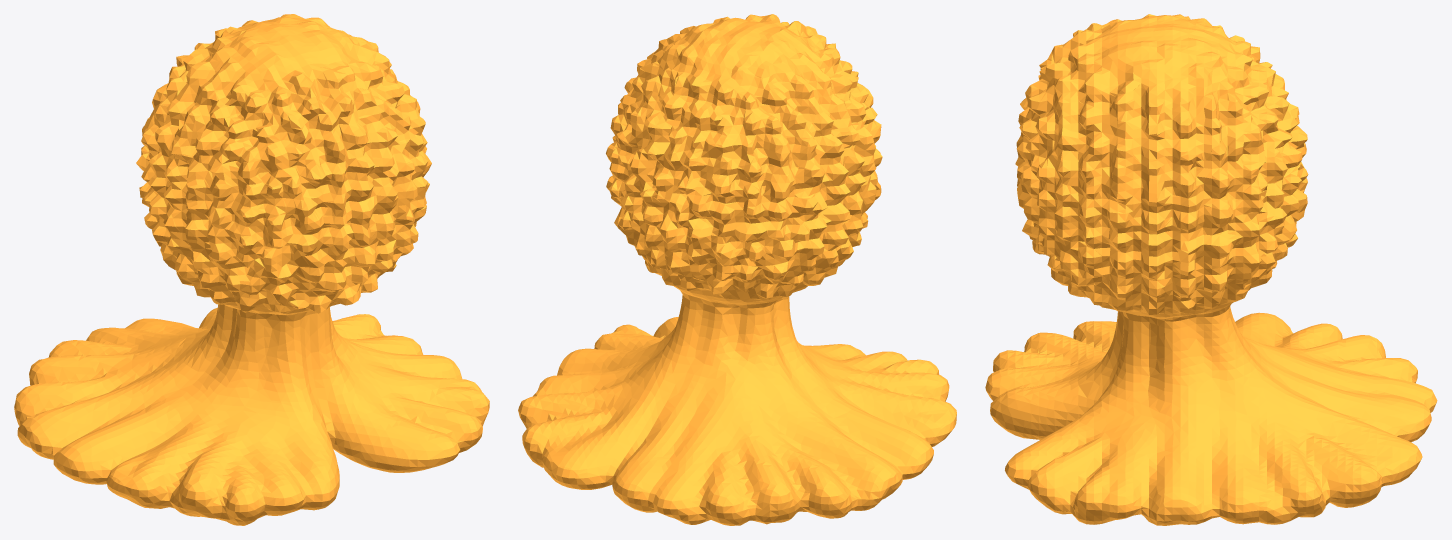
File: kora.glb
3 views of the same model, side by side, from view 1: azimuth 30°, elevation 25°; view 2: azimuth 150°, elevation 25°; view 3: azimuth 270°, elevation 25° (orthographic). The views are drawn at different scales.
Parts seen in each view (by area): view 1: Kora_Body; view 2: Kora_Body; view 3: Kora_Body.
Boxes of the visible parts, <box> form: Kora_Body: <box>14,14,489,525</box>; Kora_Body: <box>518,14,956,525</box>; Kora_Body: <box>985,14,1437,525</box>.
Size of the model in its own units: 0.4573 by 0.469 by 0.4522.
